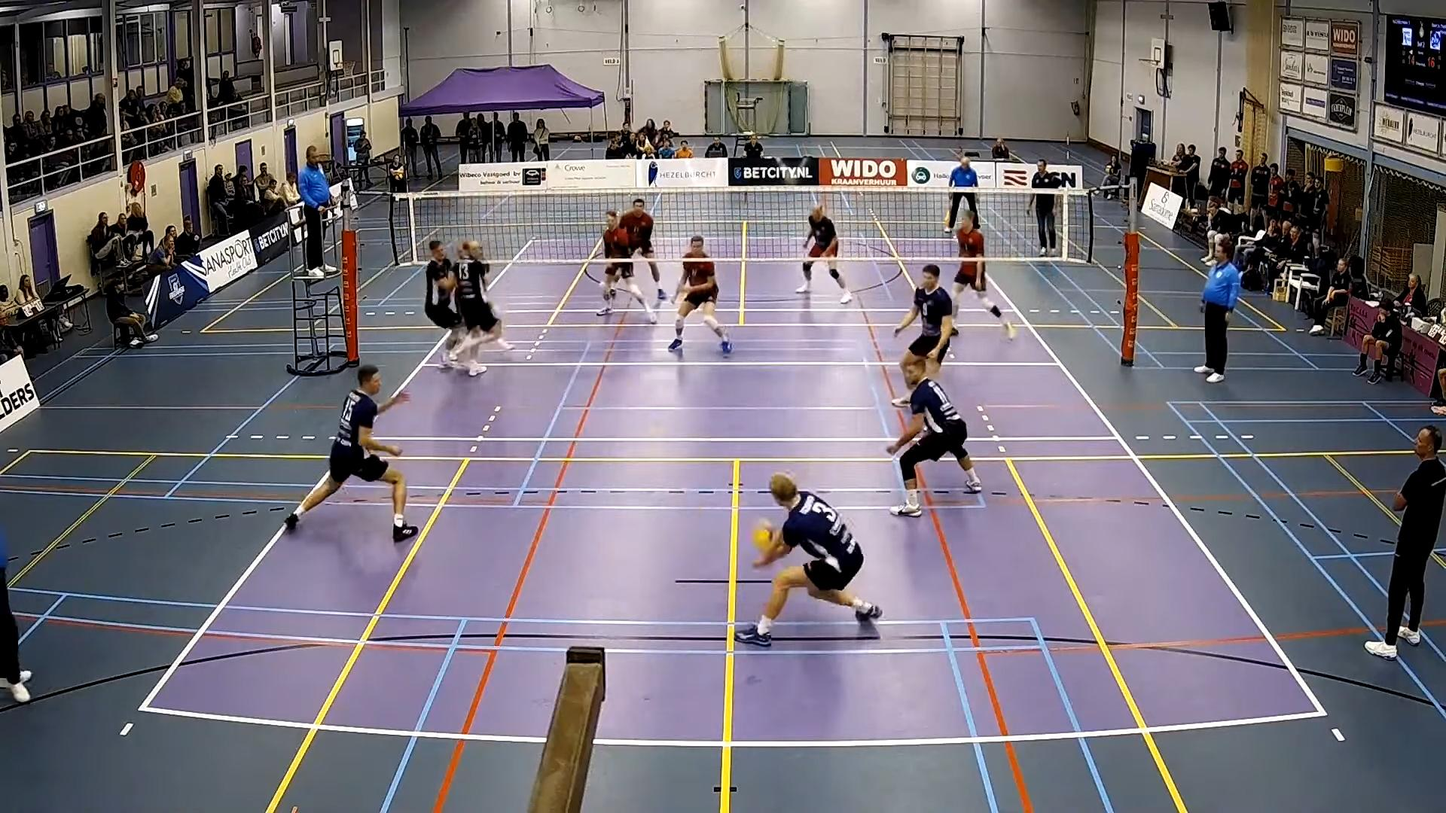difesa: (733, 470, 880, 651), (750, 514, 775, 548)
